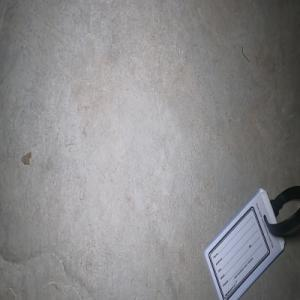LuggageTag: (202, 183, 300, 300)
